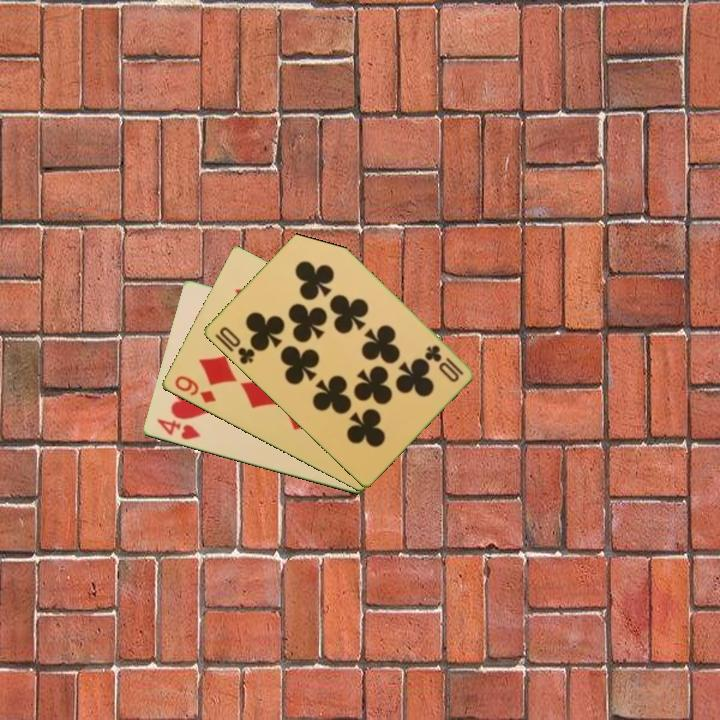10c: (215, 323, 258, 368), (421, 341, 466, 378)
4h: (153, 415, 203, 443)
9d: (171, 372, 218, 406)
